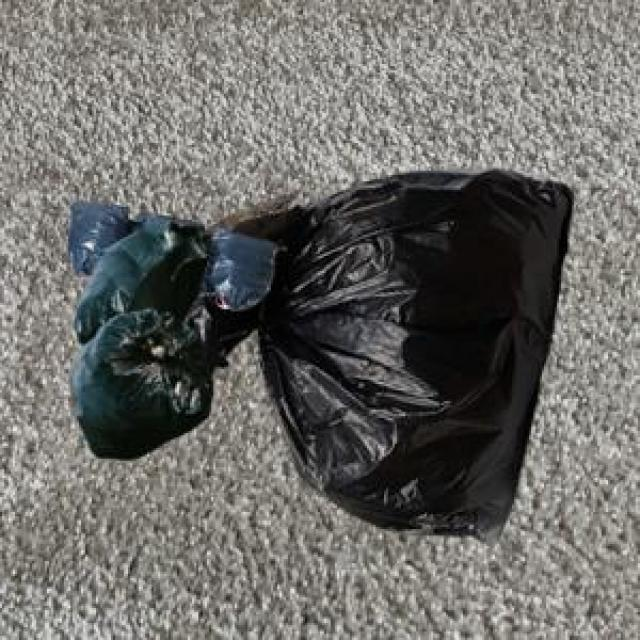Trashbag: (285, 151, 586, 547), (67, 306, 208, 470), (72, 215, 213, 324), (206, 228, 276, 307)
